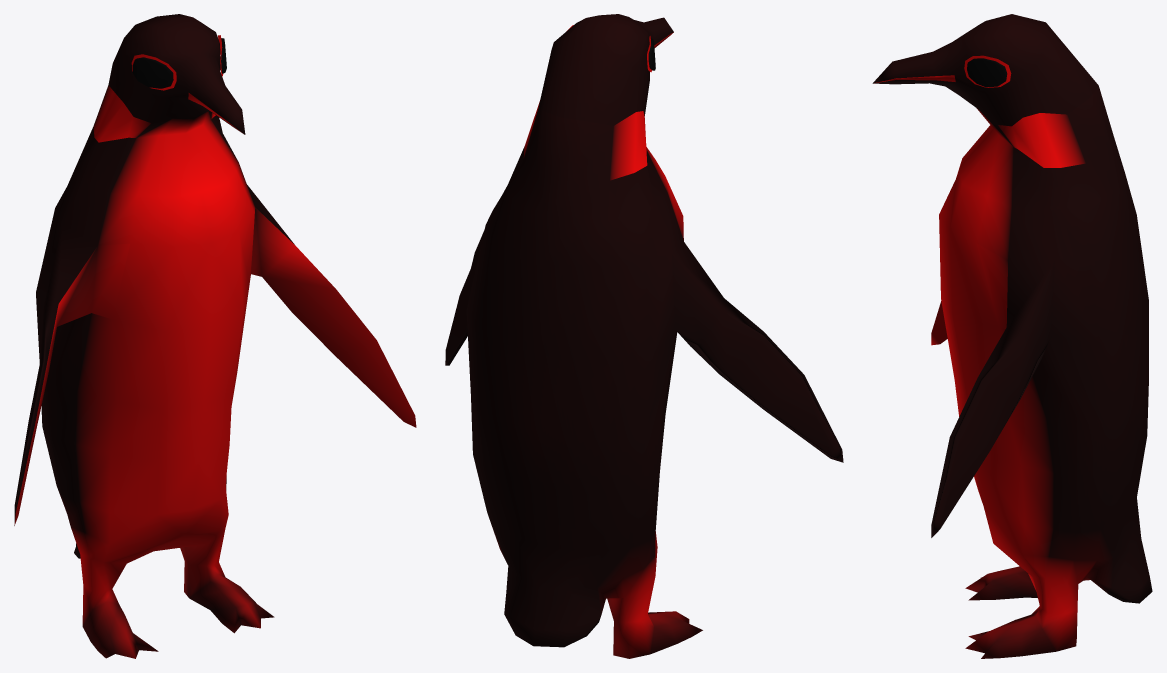
File: BirdsUpright_Penguin.fbx
The picture shows the model from 3 angles, left to right: view 1: azimuth 30°, elevation 25°; view 2: azimuth 150°, elevation 25°; view 3: azimuth 270°, elevation 25°; orthographic projection.
Visible parts, largest first — view 1: base; view 2: base; view 3: base.
Part boxes in pixels (bbox=[...]): base: bbox=[14, 14, 416, 658]; base: bbox=[445, 14, 843, 658]; base: bbox=[872, 14, 1152, 658].
Size of the model in its own units: 91.16 by 132 by 55.85.
